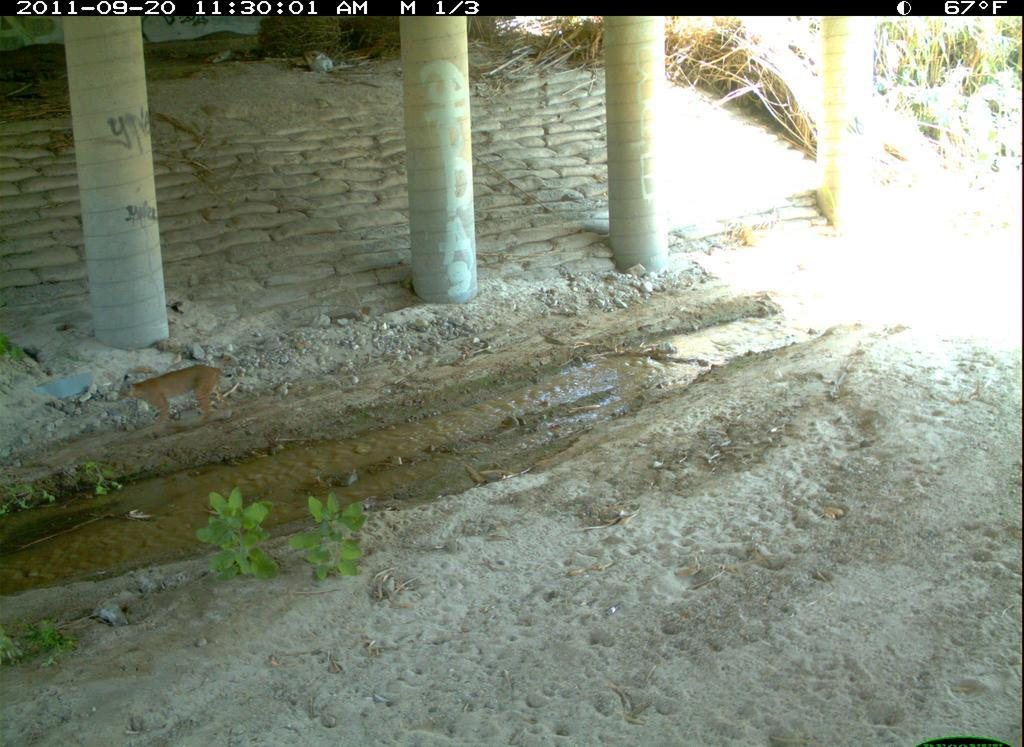bobcat: (222, 720, 477, 747)
